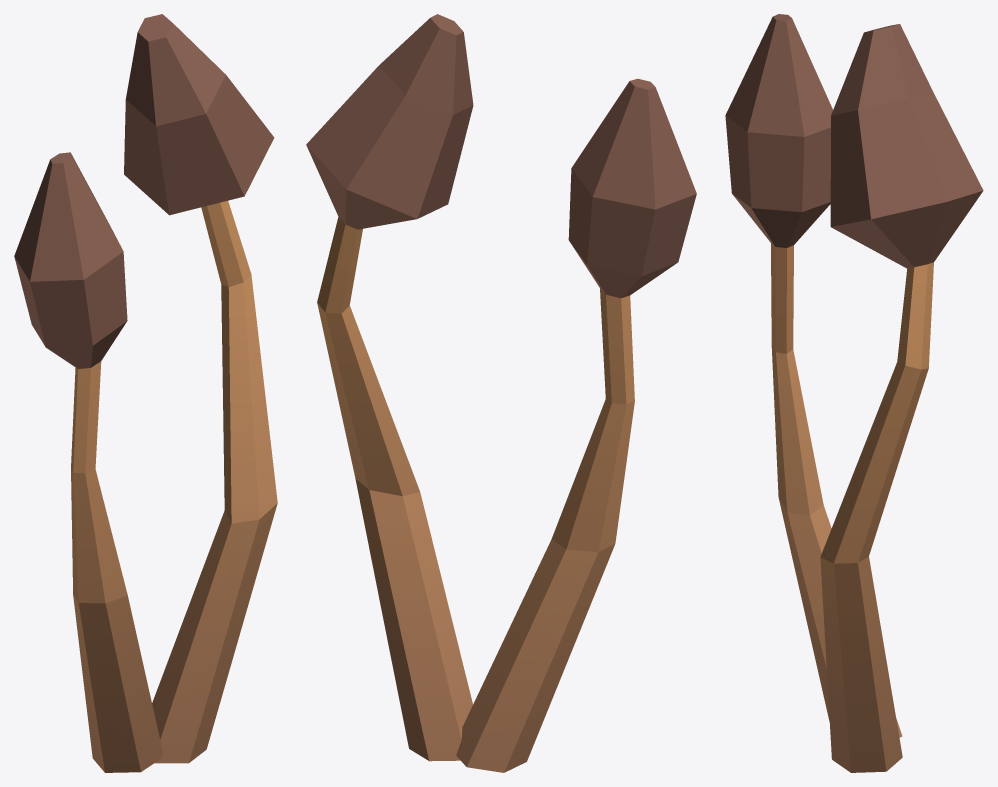
File: mushroom02.obj
3 views of the same model, side by side, from view 1: azimuth 30°, elevation 25°; view 2: azimuth 150°, elevation 25°; view 3: azimuth 270°, elevation 25° (orthographic).
Visible parts, largest first — view 1: Cylinder.023_Cylinder.045; view 2: Cylinder.023_Cylinder.045; view 3: Cylinder.023_Cylinder.045.
Part boxes in pixels (box(x1,y1,x2,y2)): Cylinder.023_Cylinder.045: box(14, 14, 277, 772); Cylinder.023_Cylinder.045: box(306, 14, 696, 772); Cylinder.023_Cylinder.045: box(725, 14, 983, 772).
Size of the model in its own units: 0.5392 by 1.25 by 0.3987.
